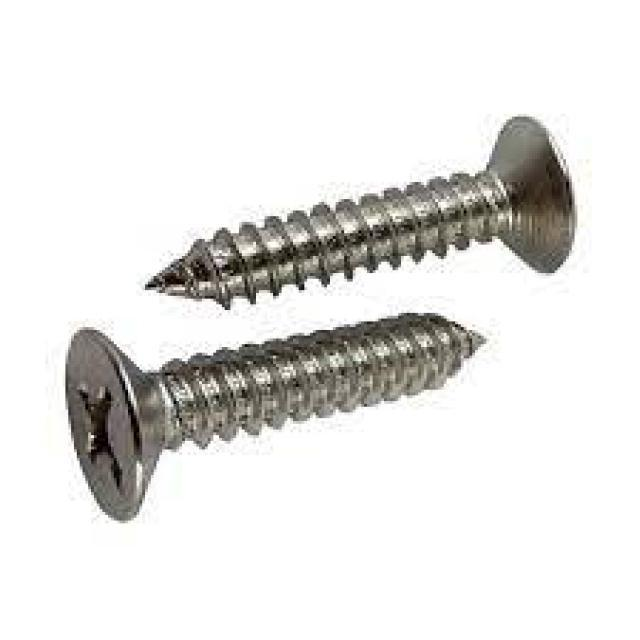Screw: (63, 313, 489, 523), (145, 117, 577, 313)
